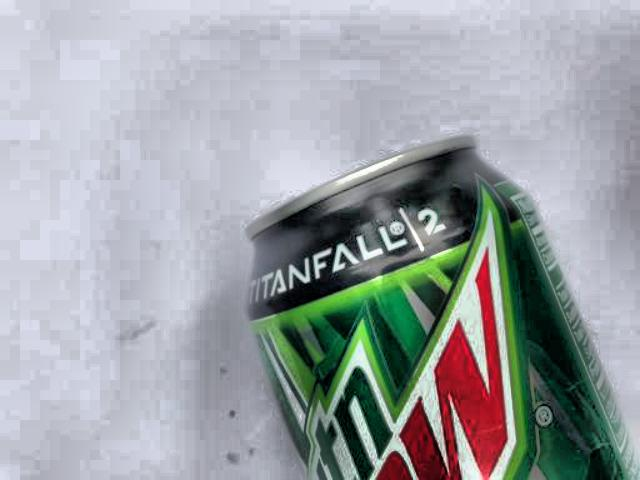Bottles: (211, 121, 640, 480)
